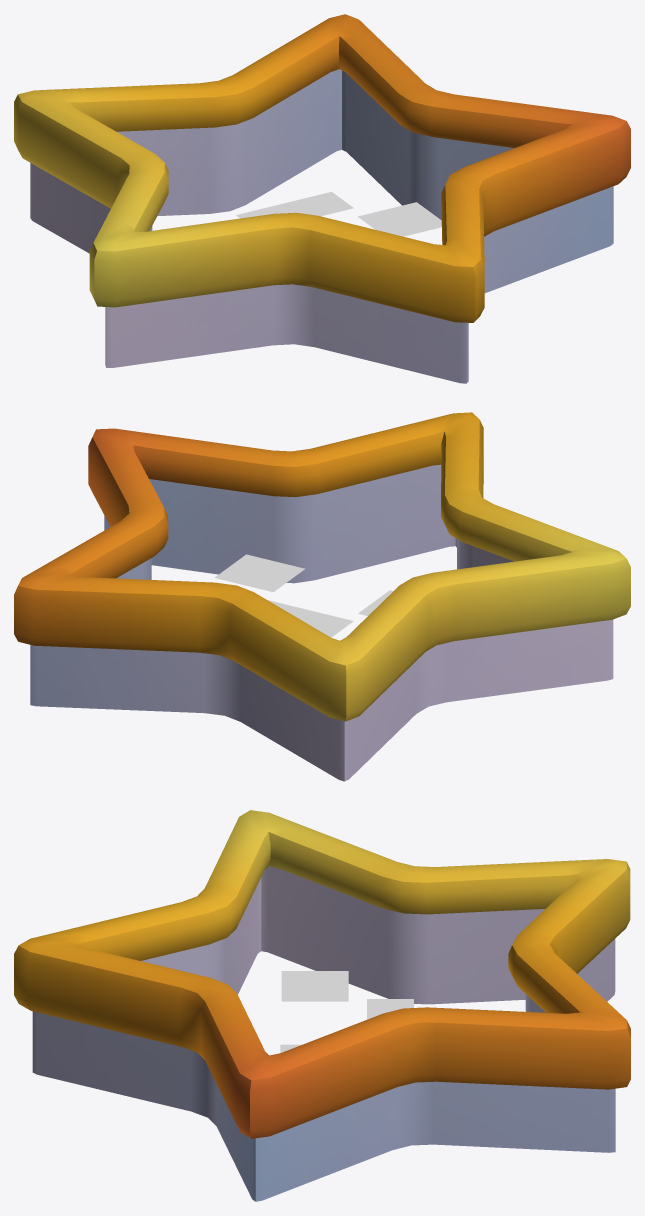
File: star_smile.fbx
The picture shows the model from 3 angles, top to bottom: view 1: azimuth 30°, elevation 25°; view 2: azimuth 150°, elevation 25°; view 3: azimuth 270°, elevation 25°; orthographic projection. The views are drawn at different scales.
Parts seen in each view (by area): view 1: star_smile; view 2: star_smile; view 3: star_smile.
Part boxes in pixels (bbox=[...]): star_smile: bbox=[14, 14, 630, 383]; star_smile: bbox=[14, 412, 630, 781]; star_smile: bbox=[14, 810, 630, 1201].
Size of the model in its own units: 67.52 by 15.09 by 64.25.
2 materials, 1 textured.
